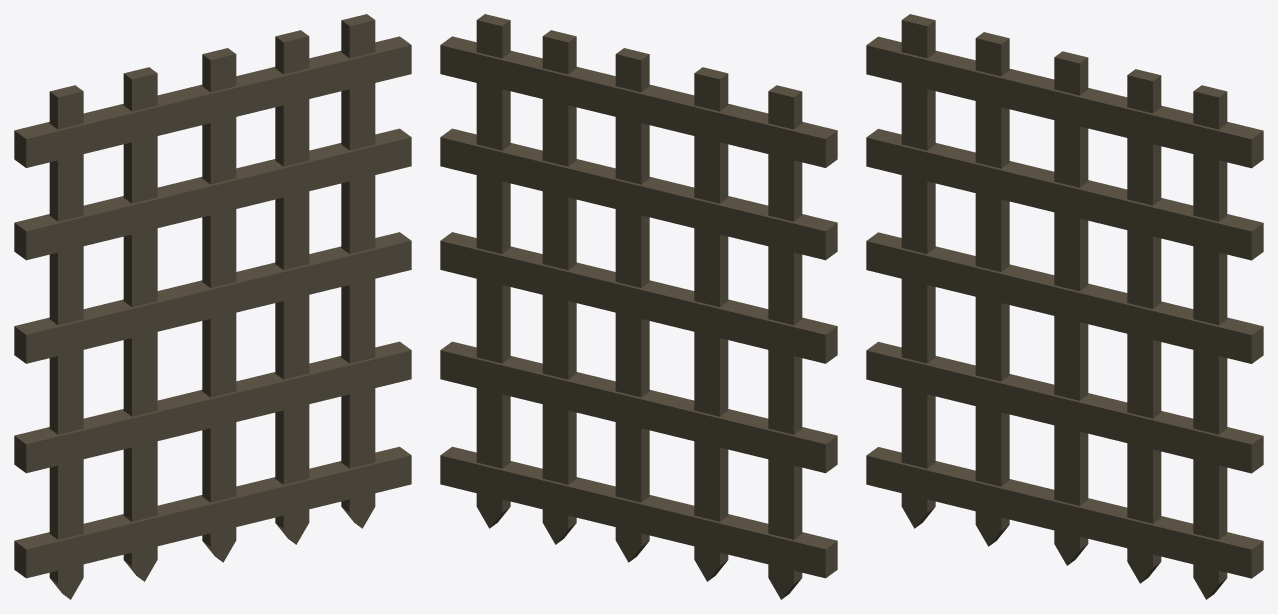
The model's file is Portcullis.fbx.
3 views of the same model, side by side, from view 1: azimuth 30°, elevation 25°; view 2: azimuth 150°, elevation 25°; view 3: azimuth 330°, elevation 25° (orthographic).
Parts seen in each view (by area): view 1: polySurface290; view 2: polySurface290; view 3: polySurface290.
Boxes of the visible parts, x1=… form: polySurface290: x1=14, y1=14, x2=411, y2=599; polySurface290: x1=440, y1=14, x2=837, y2=599; polySurface290: x1=866, y1=14, x2=1263, y2=599.
Bounding box in the file's own units: 77.43 × 97.04 × 4.17.
1 material, 1 textured.
